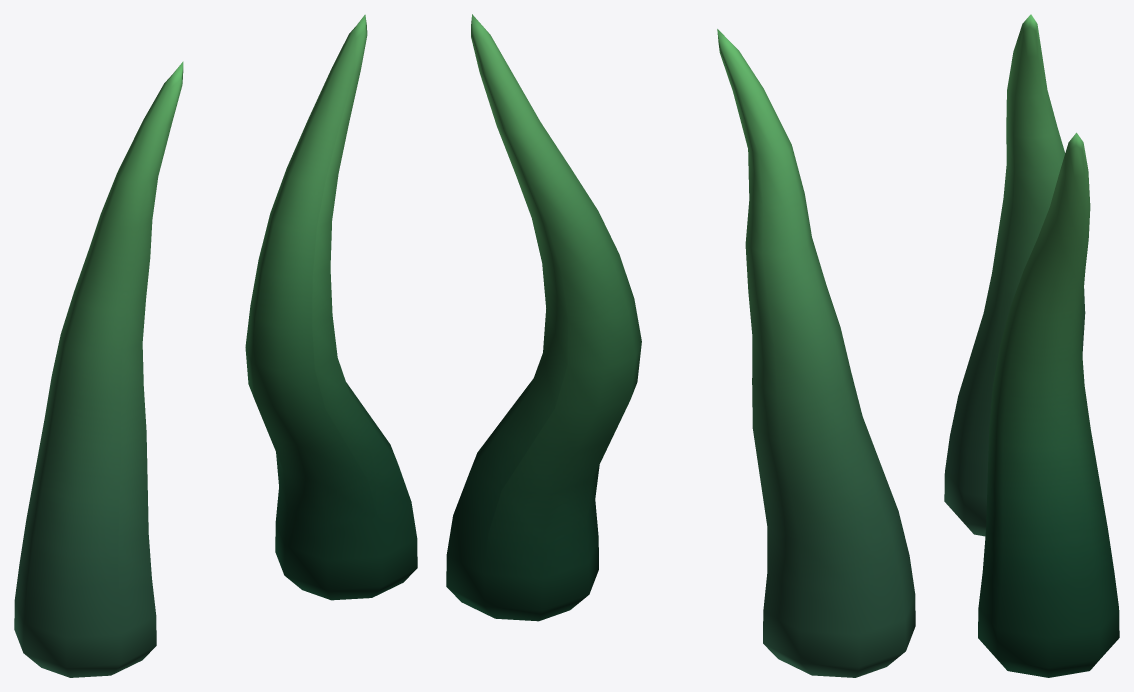
The model's file is Plant.fbx.
3 views of the same model, side by side, from view 1: azimuth 30°, elevation 25°; view 2: azimuth 150°, elevation 25°; view 3: azimuth 270°, elevation 25° (orthographic). The views are drawn at different scales.
Visible parts, largest first — view 1: Plant.001, Plant; view 2: Plant.001, Plant; view 3: Plant, Plant.001.
Boxes of the visible parts, <box> form: Plant.001: <box>14,61,183,677</box>; Plant: <box>245,14,417,600</box>; Plant.001: <box>717,29,915,677</box>; Plant: <box>446,14,641,621</box>; Plant: <box>978,132,1119,677</box>; Plant.001: <box>944,14,1085,536</box>.
Bounding box in the file's own units: 540 × 735 × 206.
